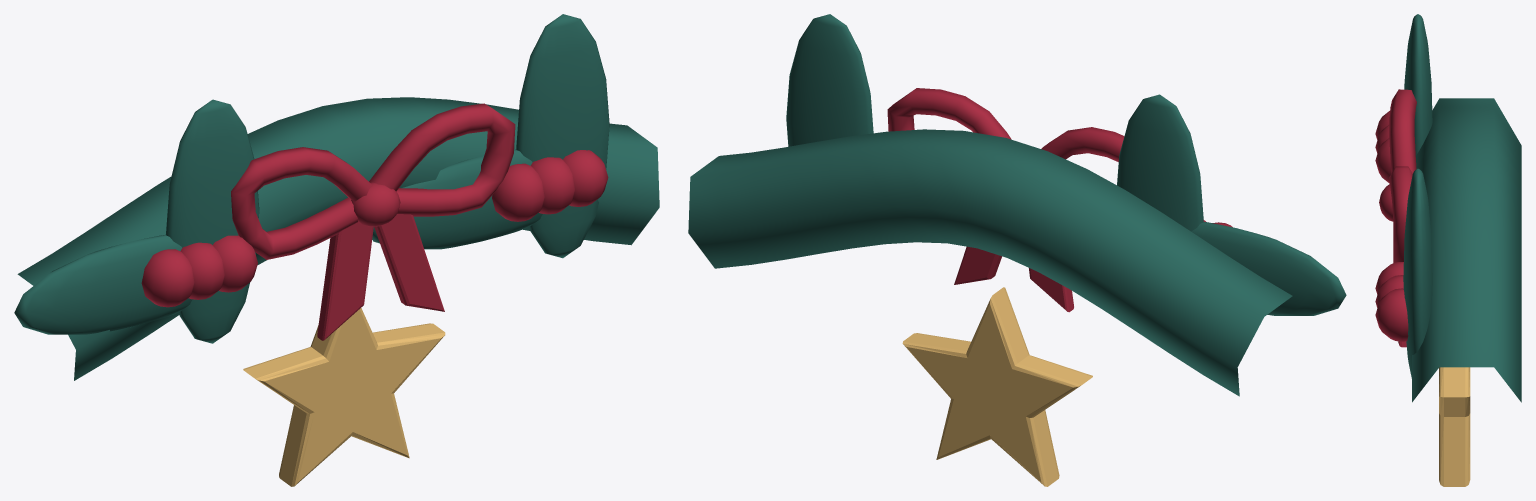
The model's file is christmas-storybook-door-swag-d1ed81c6__18725.glb.
The picture shows the model from 3 angles, left to right: view 1: azimuth 30°, elevation 25°; view 2: azimuth 150°, elevation 25°; view 3: azimuth 270°, elevation 25°; orthographic projection. The views are drawn at different scales.
Parts seen in each view (by area): view 1: pine, berry, brass; view 2: pine, brass, berry; view 3: pine, berry, brass.
Boxes of the visible parts, box(x1,y1,x2,y2) form: pine: box(14, 14, 659, 380); berry: box(141, 103, 608, 340); brass: box(243, 308, 445, 486); pine: box(688, 14, 1346, 396); brass: box(902, 287, 1092, 486); berry: box(887, 88, 1232, 312); pine: box(1403, 14, 1521, 402); berry: box(1375, 89, 1416, 347); brass: box(1439, 367, 1470, 486).
Size of the model in its own units: 1.12 by 0.6886 by 0.24.
